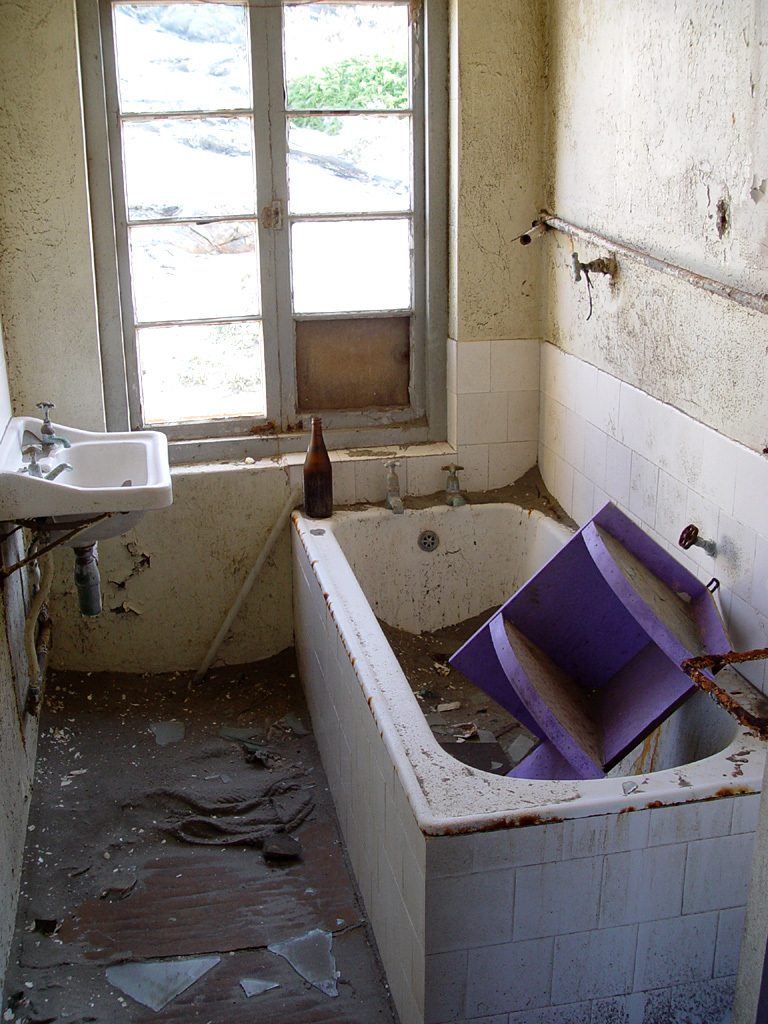tap: (25, 396, 69, 446), (440, 460, 471, 517), (380, 455, 405, 517)
